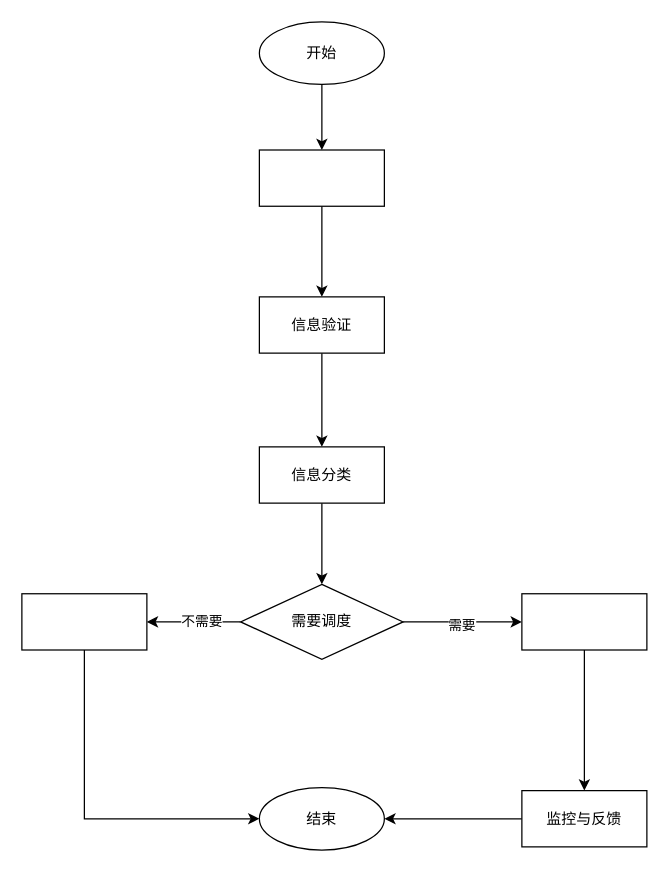
Image size: 669x873. Some labels were removed from this diagram. Here are the shapes that lost their labels. From the top down, the box of each, then its label:
(258, 149, 384, 206): 接受交通信息
(21, 592, 147, 650): 记录信息
(521, 592, 647, 650): 执行调度
